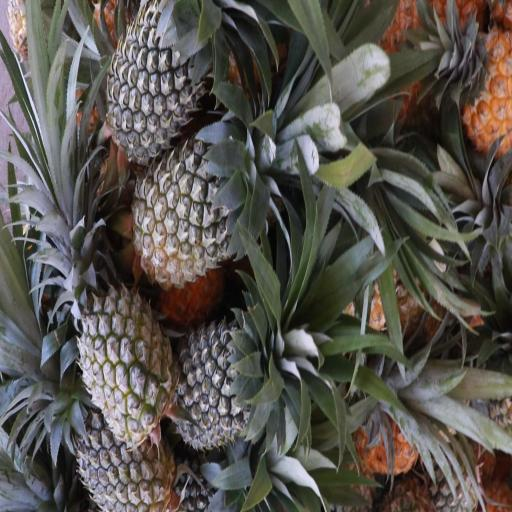------------------------------: (137, 135, 252, 275), (85, 286, 174, 438)
Pineapple - v8 v1: (451, 27, 512, 142)
